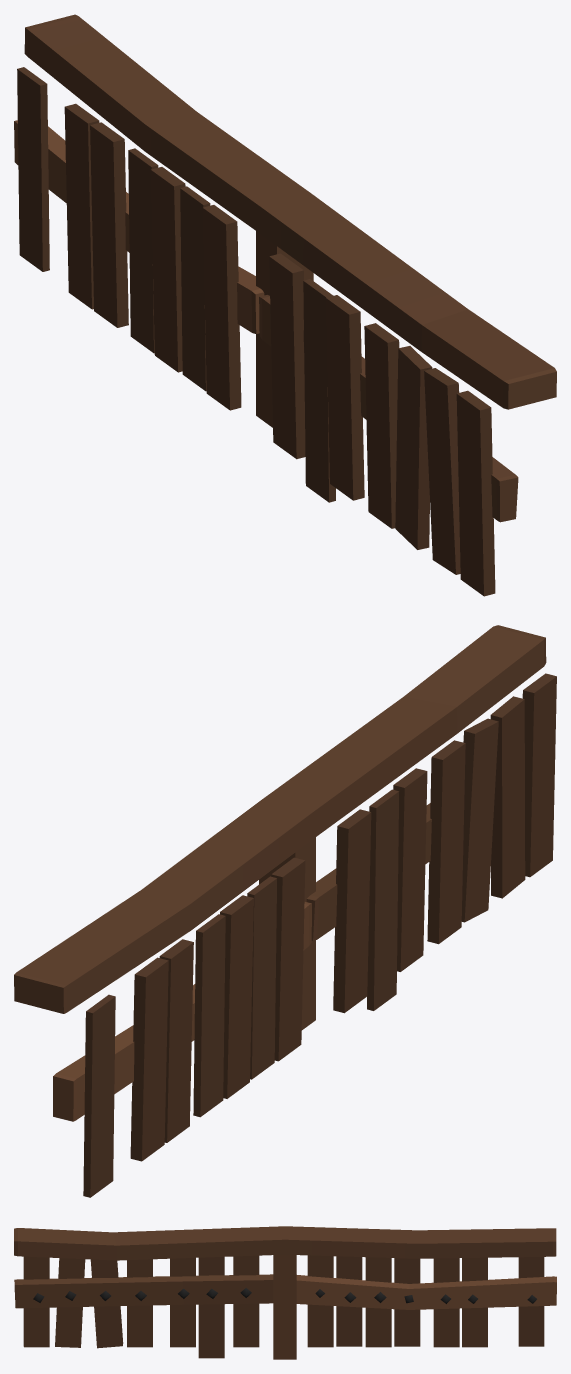
The model's file is ext_walkway_railing.fbx.
The picture shows the model from 3 angles, top to bottom: view 1: azimuth 30°, elevation 25°; view 2: azimuth 150°, elevation 25°; view 3: azimuth 270°, elevation 25°; orthographic projection. The views are drawn at different scales.
Visible parts, largest first — view 1: ext_walkway_railing; view 2: ext_walkway_railing; view 3: ext_walkway_railing.
Part boxes in pixels (x1=…): ext_walkway_railing: x1=14, y1=14, x2=556, y2=596; ext_walkway_railing: x1=14, y1=625, x2=556, y2=1197; ext_walkway_railing: x1=14, y1=1226, x2=556, y2=1359.
Bounding box in the file's own units: 0.6132 × 1.92 × 7.1.
